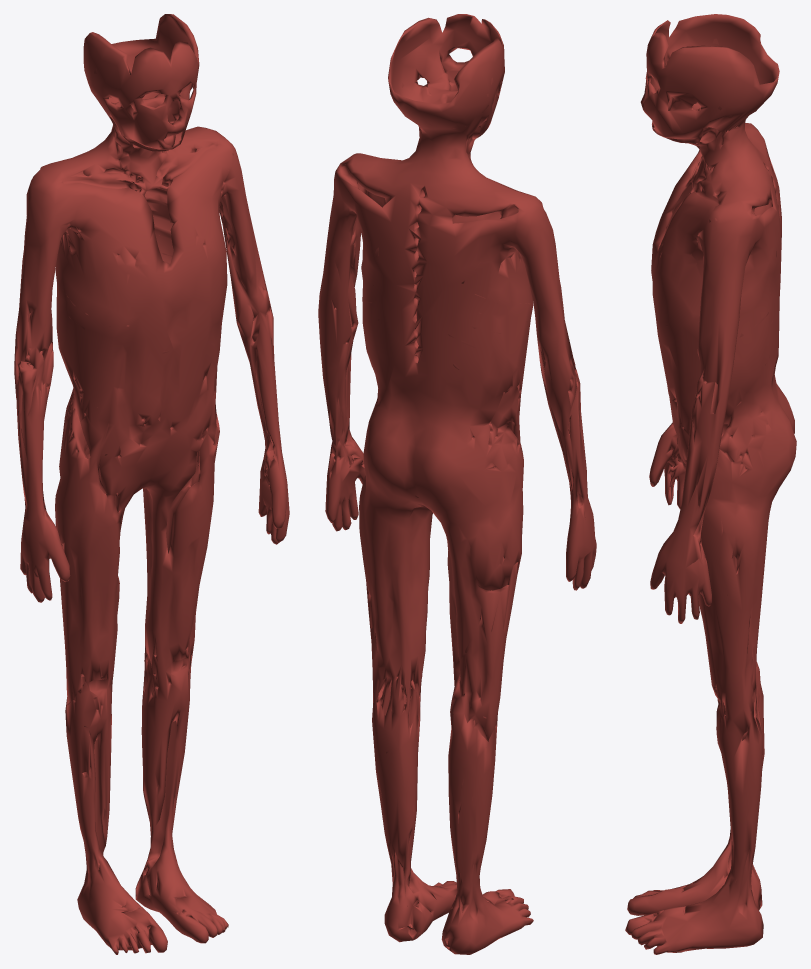
The model's file is pediatric_child_10y_female.muscular.LOD2.glb.
The picture shows the model from 3 angles, left to right: view 1: azimuth 30°, elevation 25°; view 2: azimuth 150°, elevation 25°; view 3: azimuth 270°, elevation 25°; orthographic projection.
Visible parts, largest first — view 1: PEDIATRIC.CHILD_10Y.FEMALE.MUSCULAR.MUSCLE; view 2: PEDIATRIC.CHILD_10Y.FEMALE.MUSCULAR.MUSCLE; view 3: PEDIATRIC.CHILD_10Y.FEMALE.MUSCULAR.MUSCLE.
Boxes of the visible parts, x1,y1,x2,y2 form: PEDIATRIC.CHILD_10Y.FEMALE.MUSCULAR.MUSCLE: (14, 14, 289, 954); PEDIATRIC.CHILD_10Y.FEMALE.MUSCULAR.MUSCLE: (318, 14, 596, 954); PEDIATRIC.CHILD_10Y.FEMALE.MUSCULAR.MUSCLE: (625, 14, 796, 954).
Size of the model in its own units: 0.4051 by 1.35 by 0.2339.
